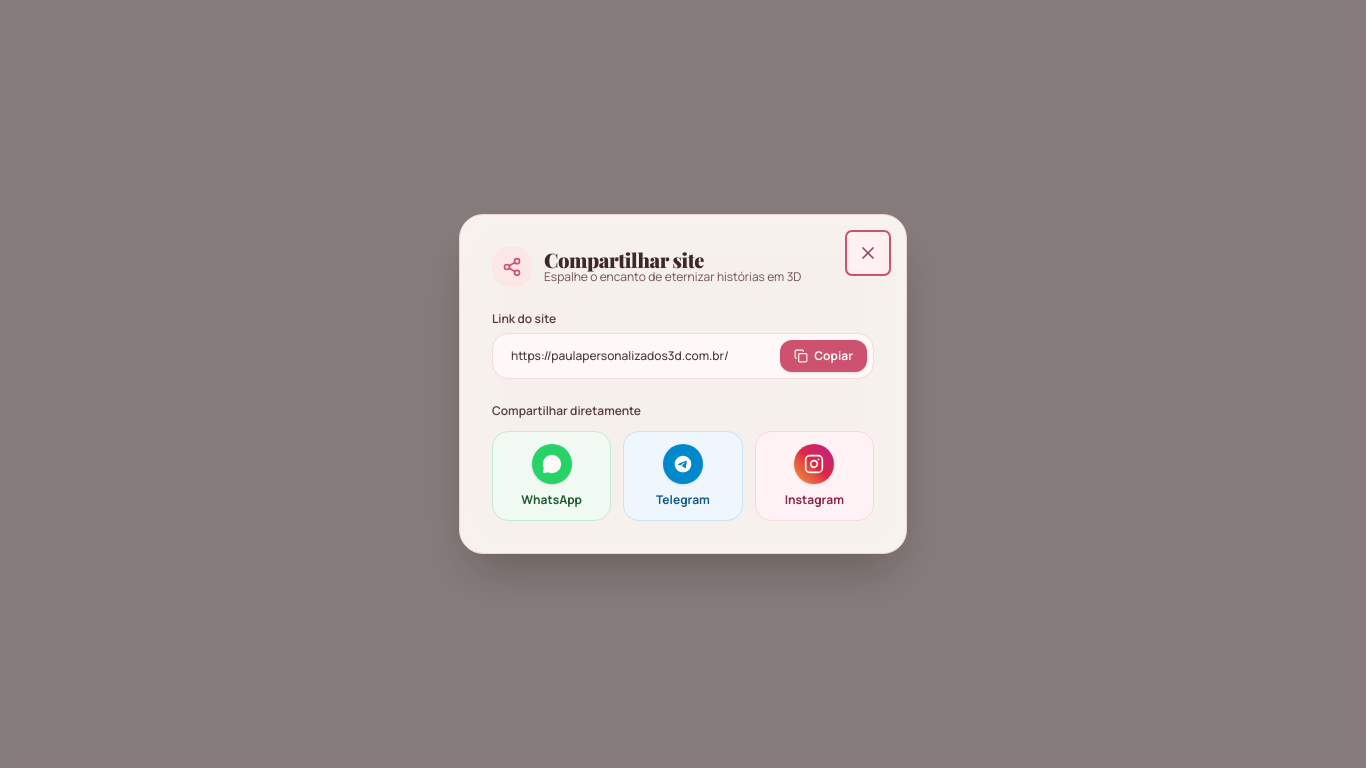
Test: ShareModal › copies link to clipboard when Copiar is clicked
This screenshot has width=1366, height=768.
Click the button "Copiar". click: (824, 356)
box: [780, 340, 867, 372]
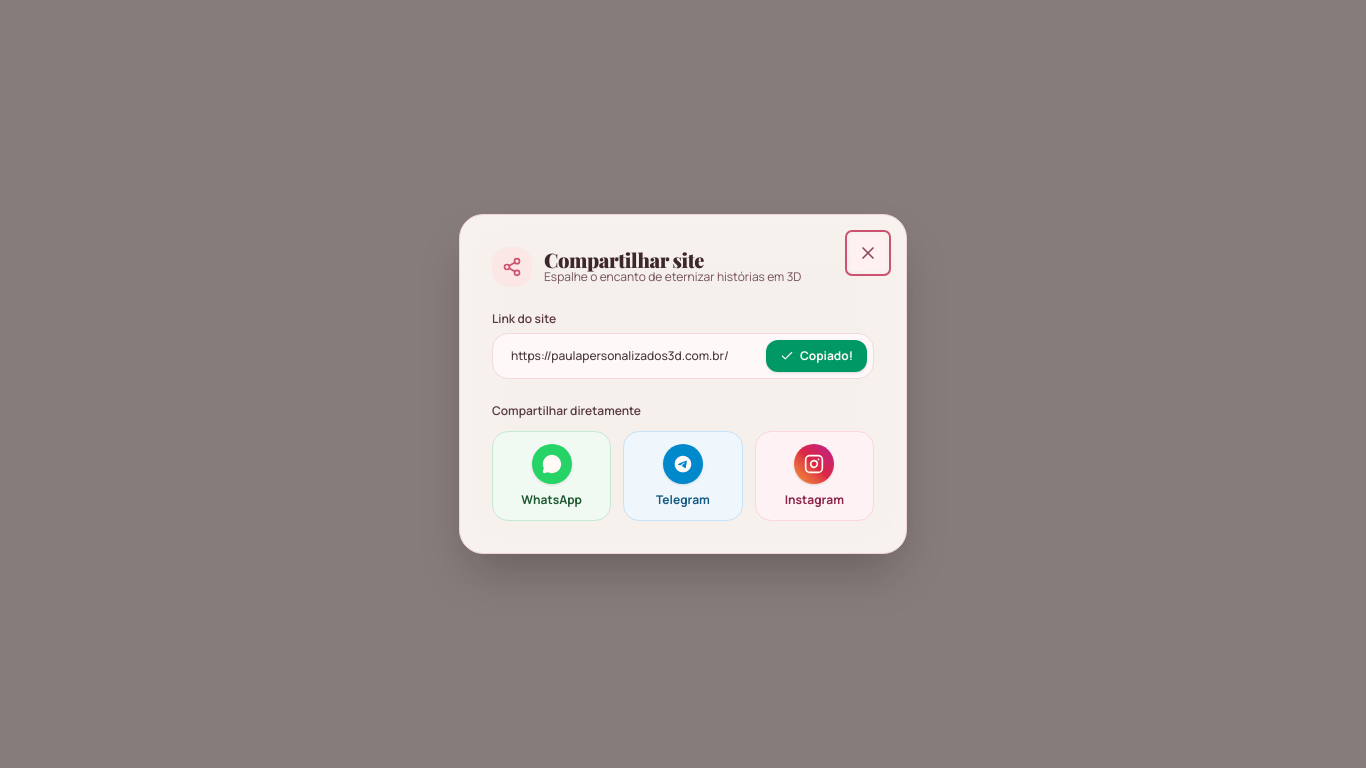
Now the text "Copiado!" is shown, box [800, 348, 853, 364]
